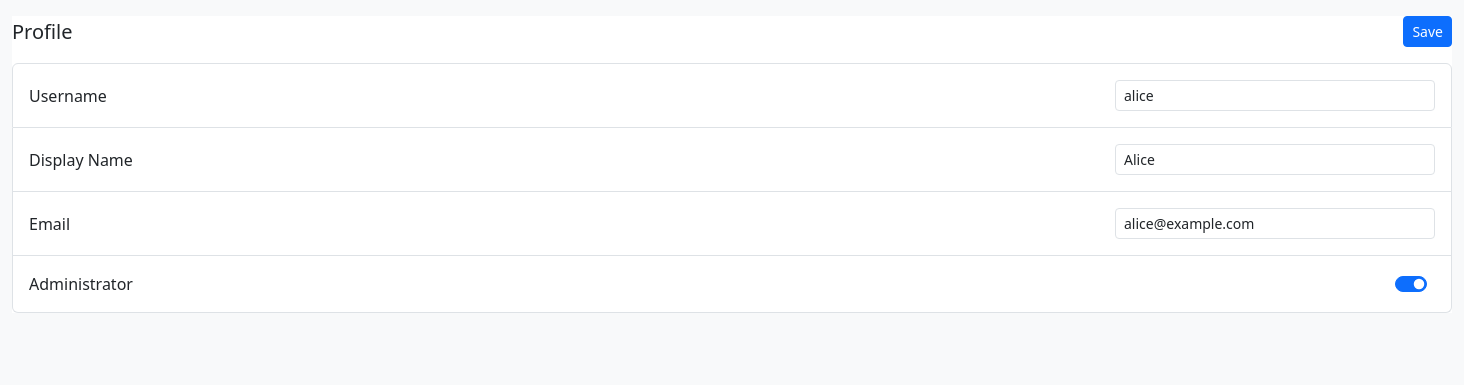
Scenario: AdminUserProfileForm › displays fallback error message when update fails with non-Error
Click the button "Save".
click(1428, 32)  # box [1403,16,1452,47]
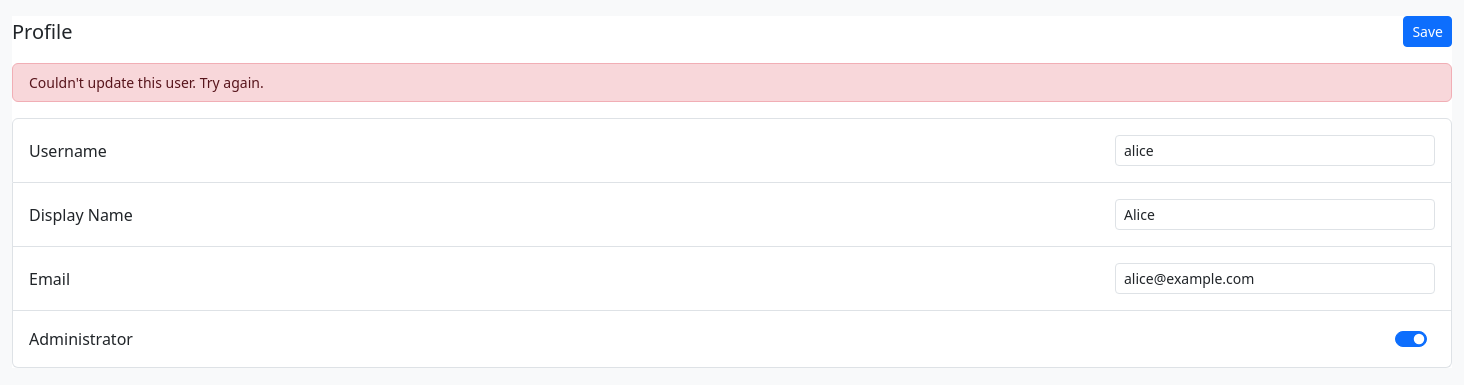
Expected: the message reads "Couldn't update this user. Try again.", [29,73,264,92]
